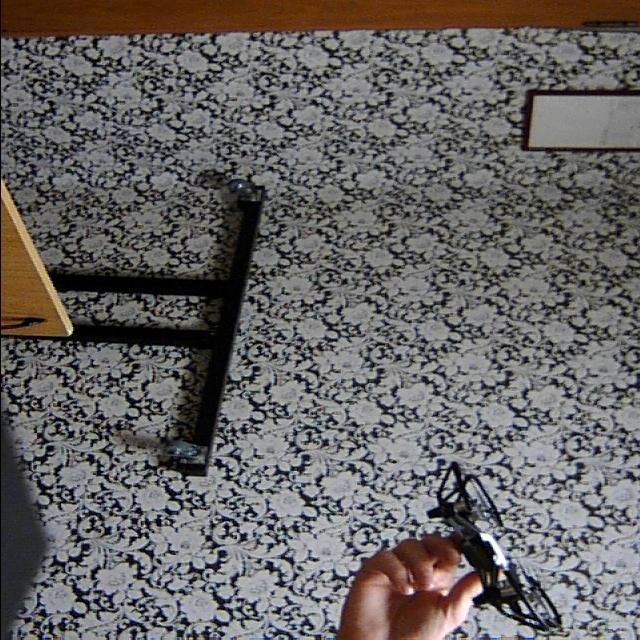drone: (420, 444, 572, 640)
